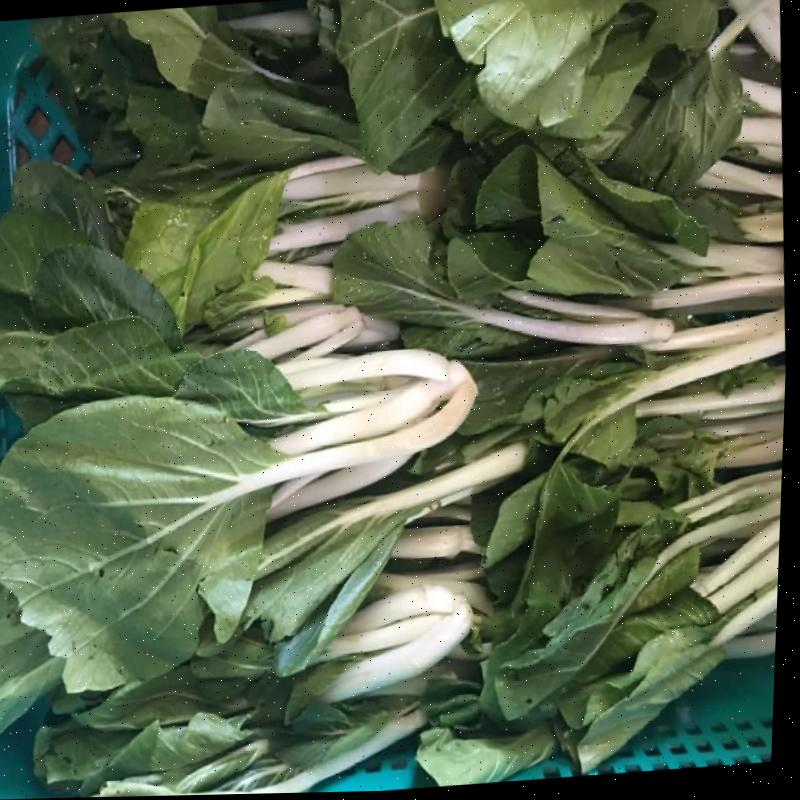vegetable peels: (0, 348, 474, 691), (34, 526, 483, 798), (334, 217, 785, 459), (484, 401, 784, 647), (534, 519, 780, 774), (39, 4, 363, 197), (438, 0, 781, 175), (127, 154, 445, 329), (467, 143, 784, 294), (0, 244, 220, 425), (417, 597, 614, 786), (321, 0, 518, 174), (0, 161, 123, 330), (0, 581, 54, 732)
